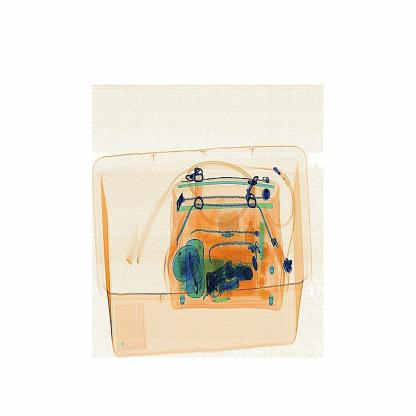pliers: (256, 214, 274, 286)
